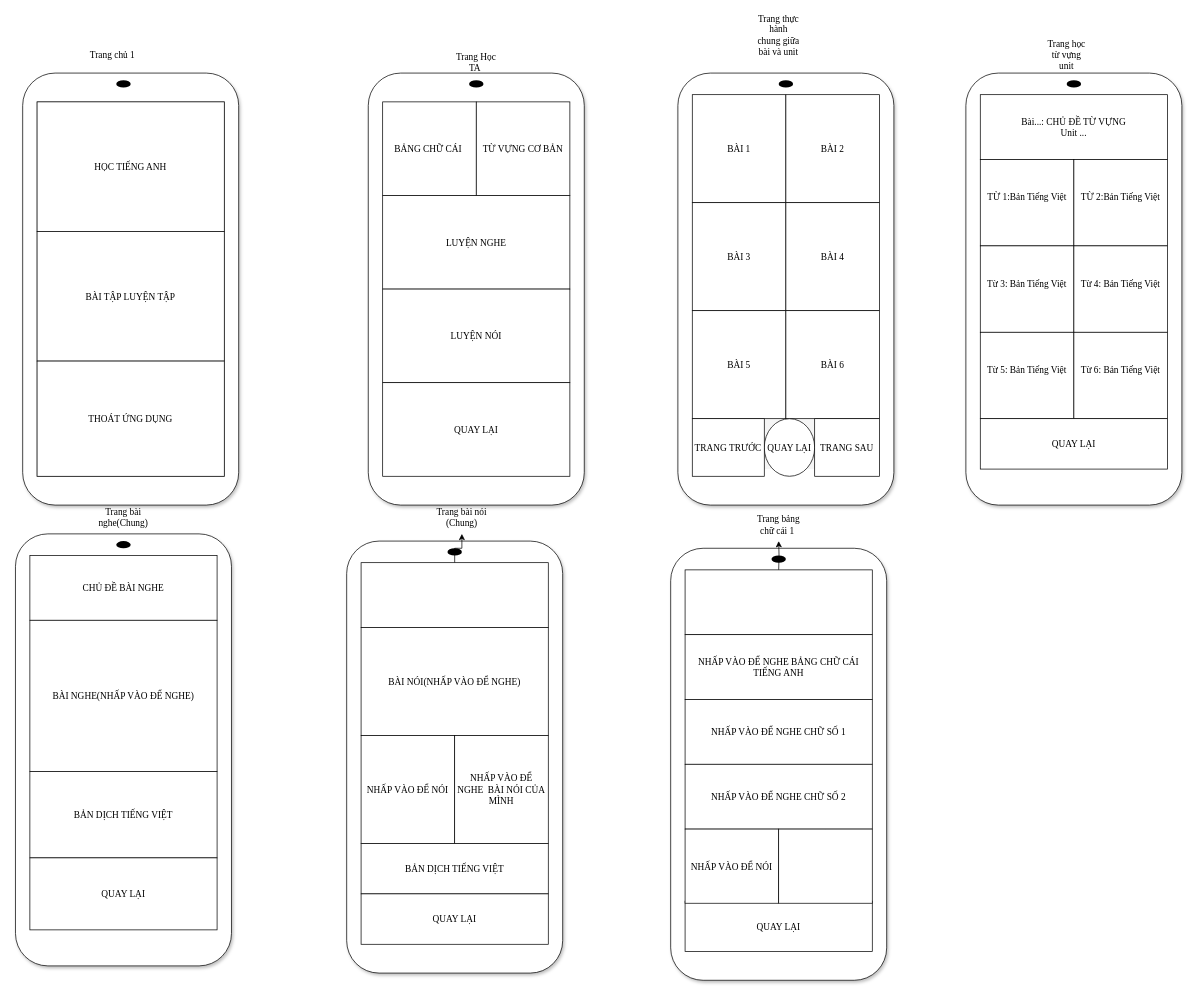
This 1199x998 diagram has some shape labels left out. The centre of each missing label's shape, as x and y in pixels:
"Bài...: GIỚI THIỆU BẢNG CHỮ CÁI VÀ HỌC PHÁT ÂM" goes at pixel 778 602.
"CHỦ ĐỀ BÀI NÓI" goes at pixel 454 594.
"NHẤP VÀO ĐỂ NGHE LẠI PHÁT ÂM CỦA MÌNH" goes at pixel 825 865.
